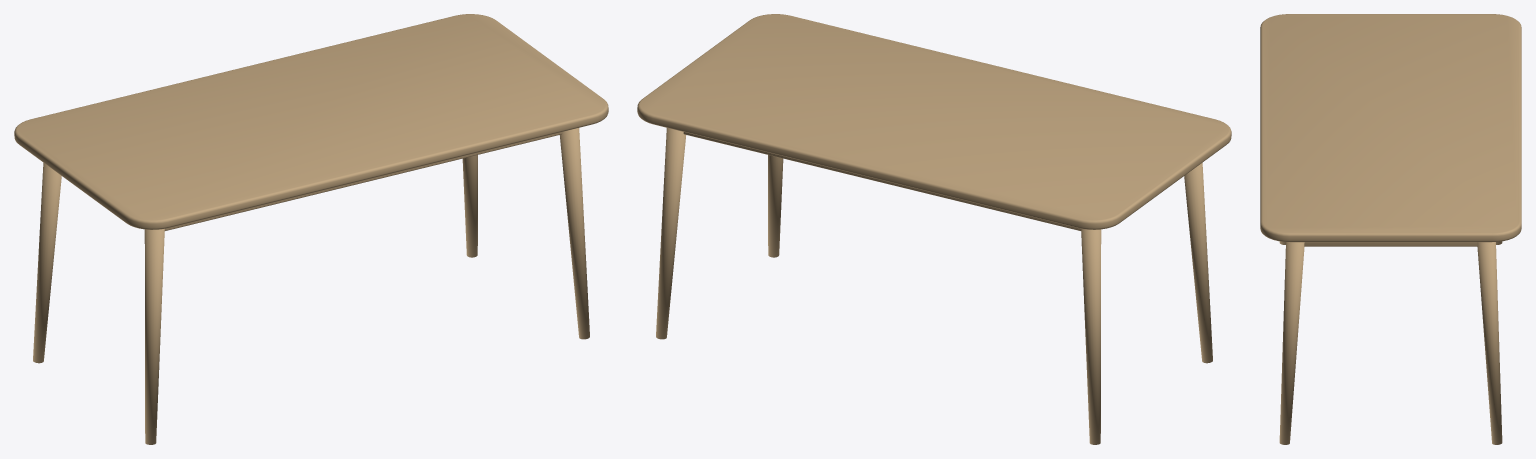
Rendered from table.glb.
3 views of the same model, side by side, from view 1: azimuth 30°, elevation 25°; view 2: azimuth 150°, elevation 25°; view 3: azimuth 270°, elevation 25° (orthographic). The views are drawn at different scales.
Visible parts, largest first — view 1: top, leg0, leg1, leg2, leg3, apron1; view 2: top, leg2, leg3, leg0, leg1, apron0; view 3: top, leg1, leg3, apron_s1.
Boxes of the visible parts, x1,y1,x2,y2 form: top: [14, 14, 608, 229]; leg0: [144, 228, 164, 444]; leg1: [559, 128, 589, 339]; leg2: [33, 163, 61, 363]; leg3: [462, 155, 477, 257]; apron1: [164, 132, 562, 230]; top: [637, 14, 1231, 229]; leg2: [1081, 228, 1101, 444]; leg3: [656, 128, 686, 339]; leg0: [1184, 163, 1212, 363]; leg1: [768, 155, 783, 257]; apron0: [683, 132, 1081, 230]; top: [1260, 14, 1521, 242]; leg1: [1279, 242, 1304, 444]; leg3: [1477, 242, 1502, 444]; apron_s1: [1304, 242, 1477, 246].
Size of the model in its own units: 1.6 by 0.7411 by 0.8.
